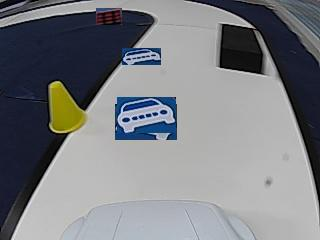block: (219, 24, 264, 72)
cone: (46, 82, 88, 133)
